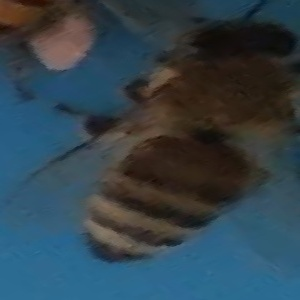bee: (122, 11, 292, 264)
